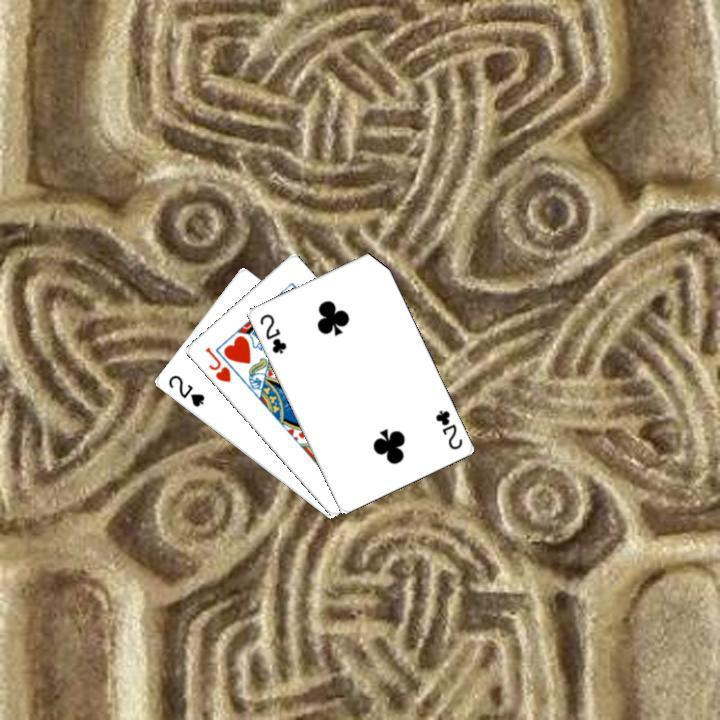2: (163, 371, 206, 409), (430, 405, 464, 452), (255, 309, 288, 356)
J: (200, 343, 233, 384)
